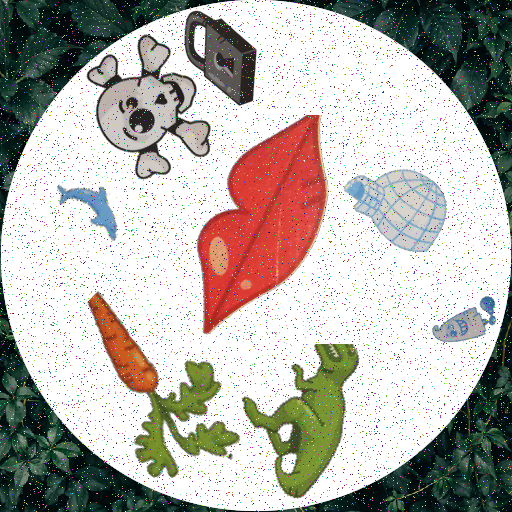carrot_icon: (38, 289, 251, 502)
dino_icon: (240, 344, 396, 500)
dolphin_icon: (53, 170, 130, 247)
ghost_icon: (429, 286, 502, 359)
igloo_icon: (338, 151, 449, 262)
lips_icon: (161, 115, 387, 341)
lock_icon: (171, 9, 271, 109)
skull_icon: (65, 26, 225, 186)
